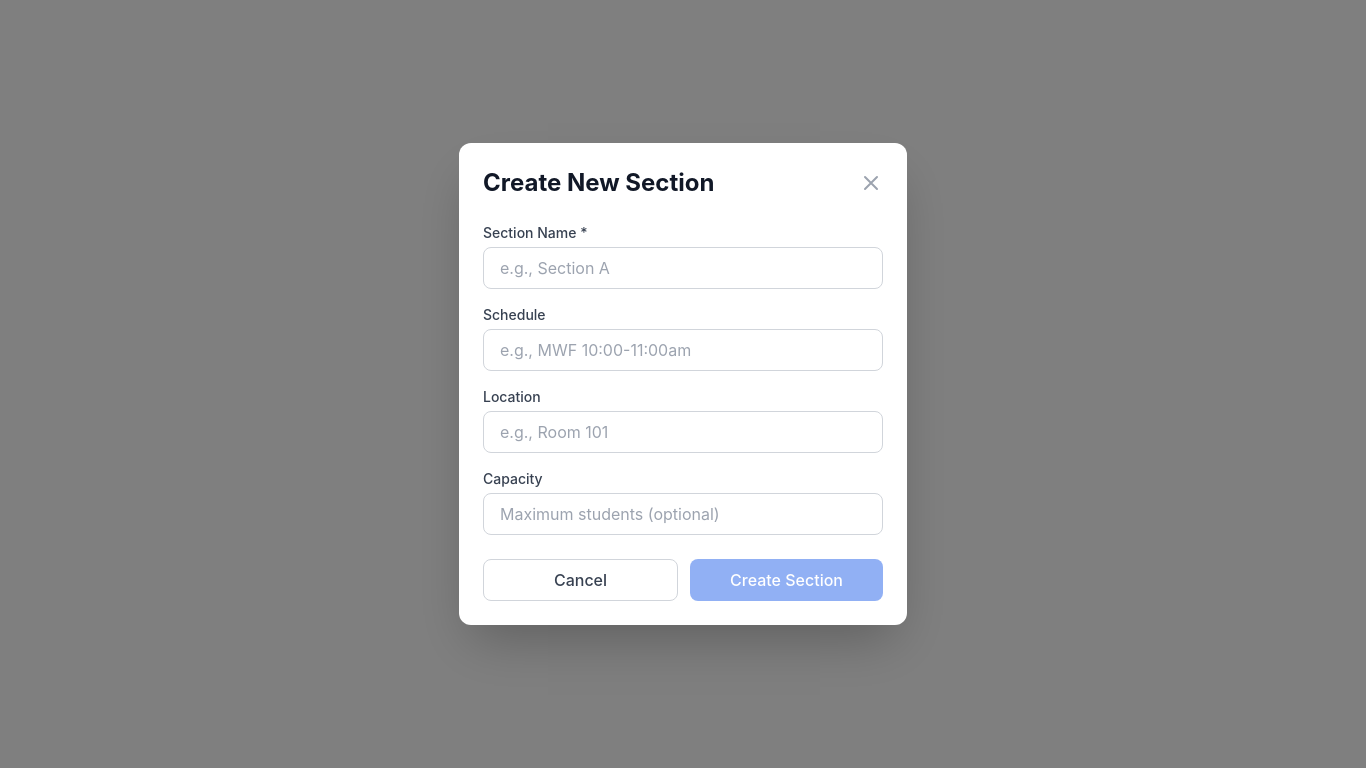
Test case: CreateSectionModal › shows loading state while creating section
In the field labelled "Section Name *": (683, 268) [483, 247, 883, 289], type "Section A"
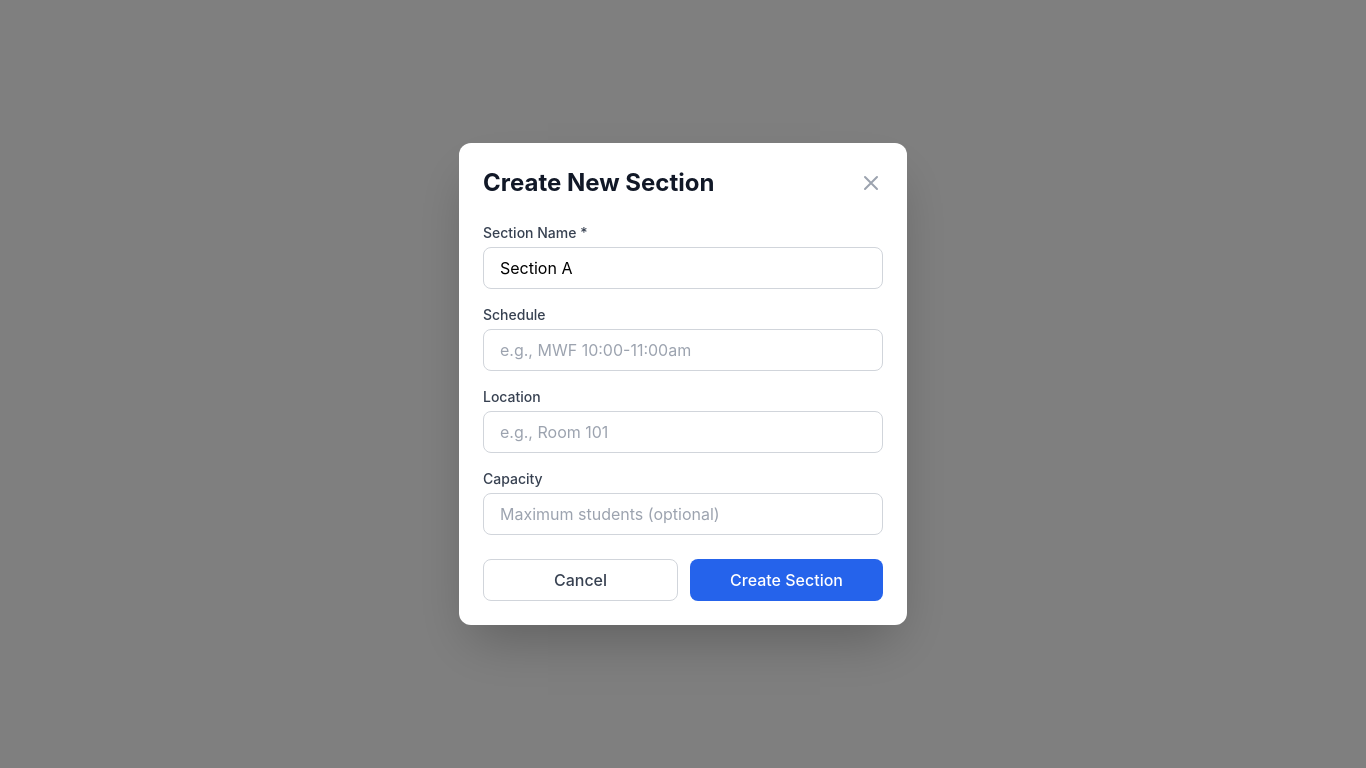
Click the button "Create Section": click(786, 580) [690, 559, 883, 601]
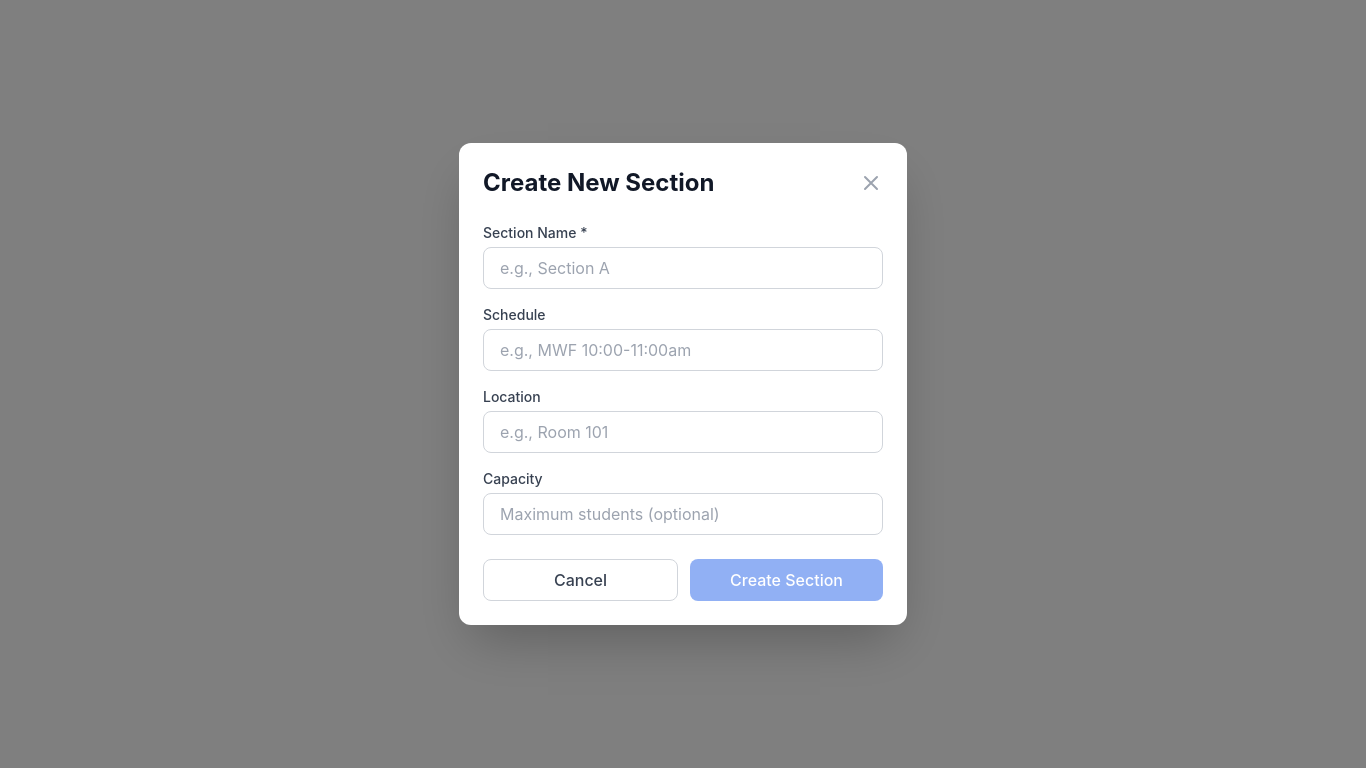
Expected: the button named "creating" is disabled, [690, 559, 883, 601]
